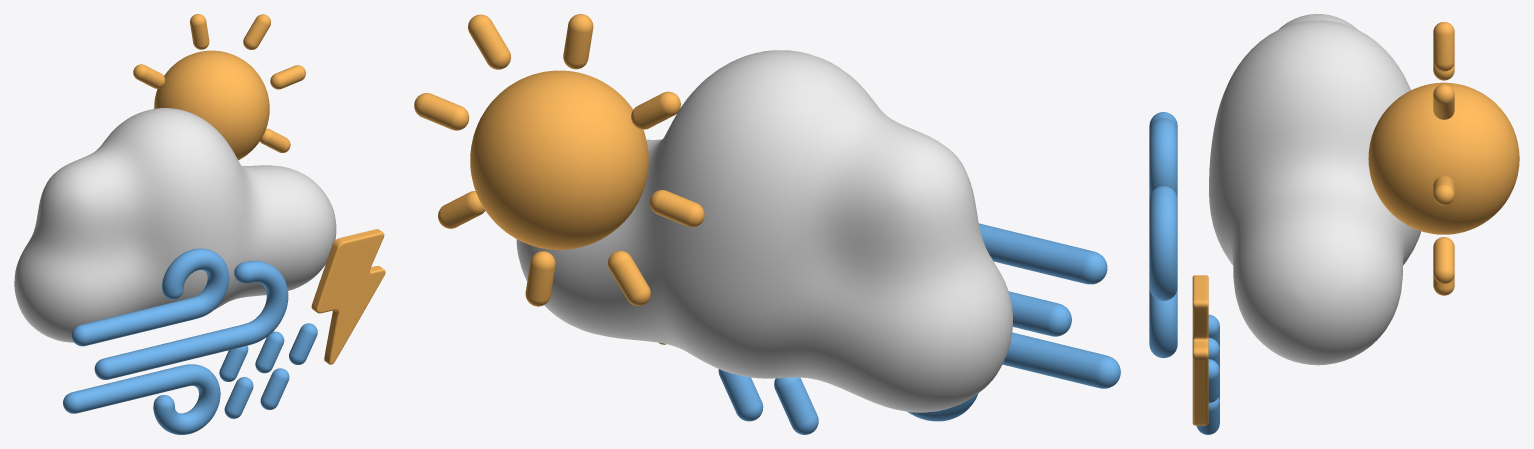
The model's file is apocalypse-day.glb.
The picture shows the model from 3 angles, left to right: view 1: azimuth 30°, elevation 25°; view 2: azimuth 150°, elevation 25°; view 3: azimuth 270°, elevation 25°; orthographic projection. The views are drawn at different scales.
Parts seen in each view (by area): view 1: 0027; view 2: 0027; view 3: 0027.
Boxes of the visible parts, x1,y1,x2,y2 form: 0027: [14, 14, 385, 434]; 0027: [414, 14, 1120, 434]; 0027: [1149, 14, 1519, 434].
Bounding box in the file's own units: 2.67 × 2.37 × 1.88.
